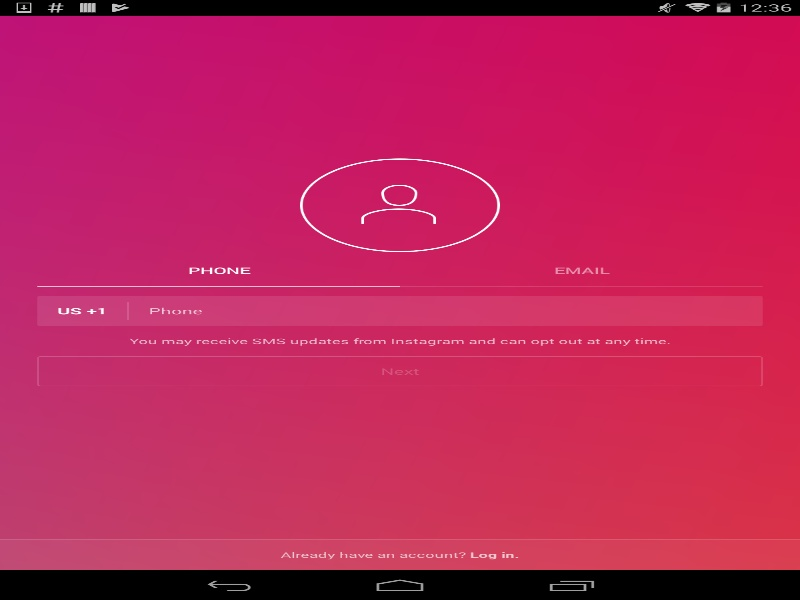Input: (128, 295, 762, 325)
